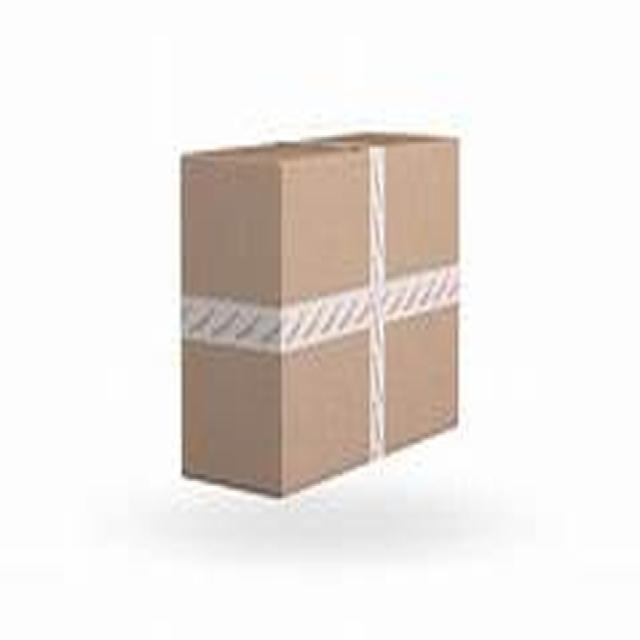box: (152, 118, 483, 486)
